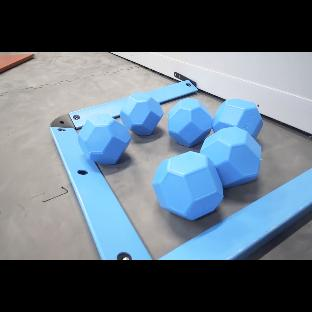Full: (78, 93, 312, 258)
Parking - B: (50, 98, 151, 260), (159, 168, 312, 260), (144, 80, 197, 103)
V5_BLUE: (152, 98, 263, 220), (78, 93, 163, 164)
